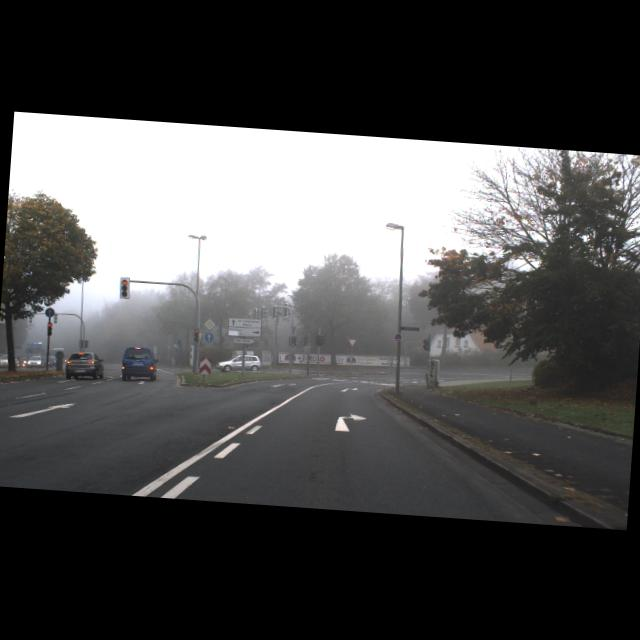mandatory: (203, 331, 214, 342)
other: (202, 316, 216, 331), (346, 337, 357, 348)
